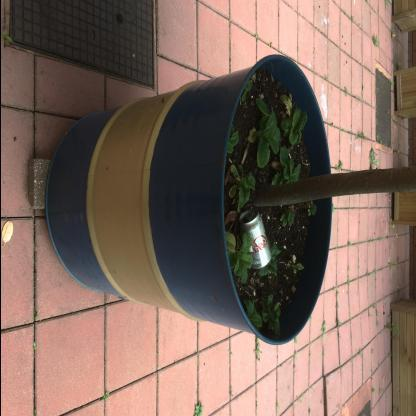metal: (239, 210, 272, 271)
